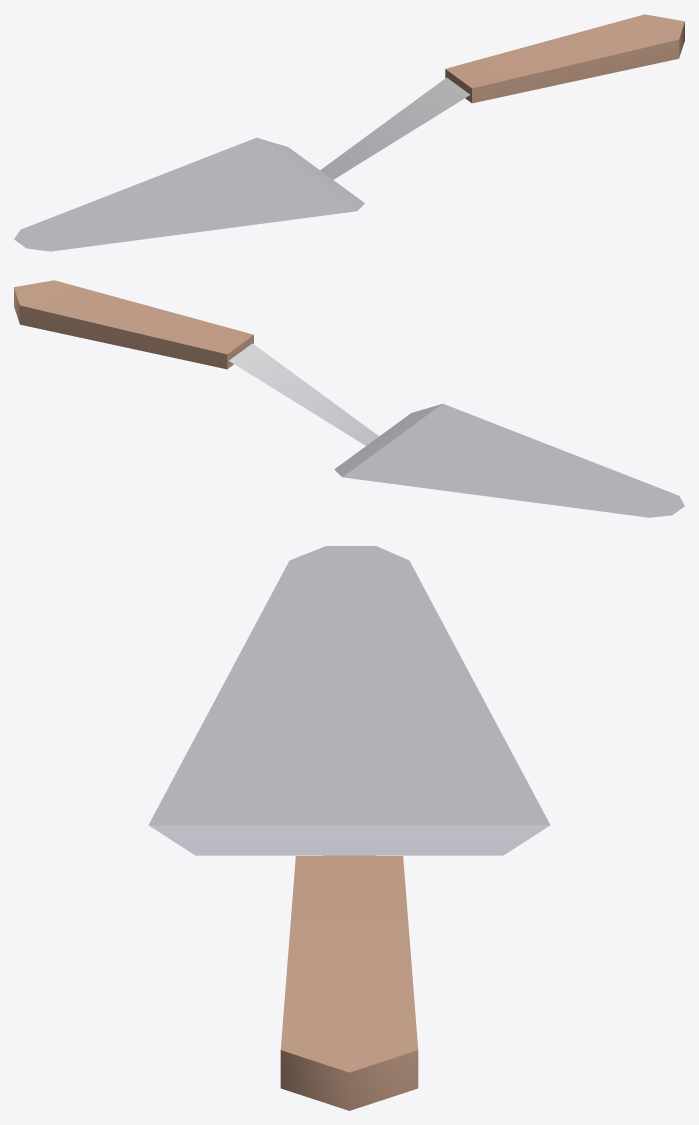
Rendered from cake-slicer.glb.
The picture shows the model from 3 angles, top to bottom: view 1: azimuth 30°, elevation 25°; view 2: azimuth 150°, elevation 25°; view 3: azimuth 270°, elevation 25°; orthographic projection. The views are drawn at different scales.
Parts seen in each view (by area): view 1: cake-slicer; view 2: cake-slicer; view 3: cake-slicer.
Boxes of the visible parts, x1,y1,x2,y2 form: cake-slicer: (14, 14, 684, 251); cake-slicer: (14, 280, 684, 517); cake-slicer: (148, 546, 550, 1110).
Size of the model in its own units: 0.7246 by 0.0692 by 0.19.
